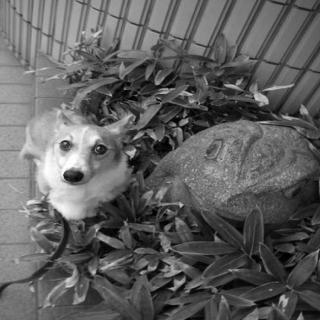dog: (48, 106, 139, 191)
nose: (62, 167, 84, 184)
